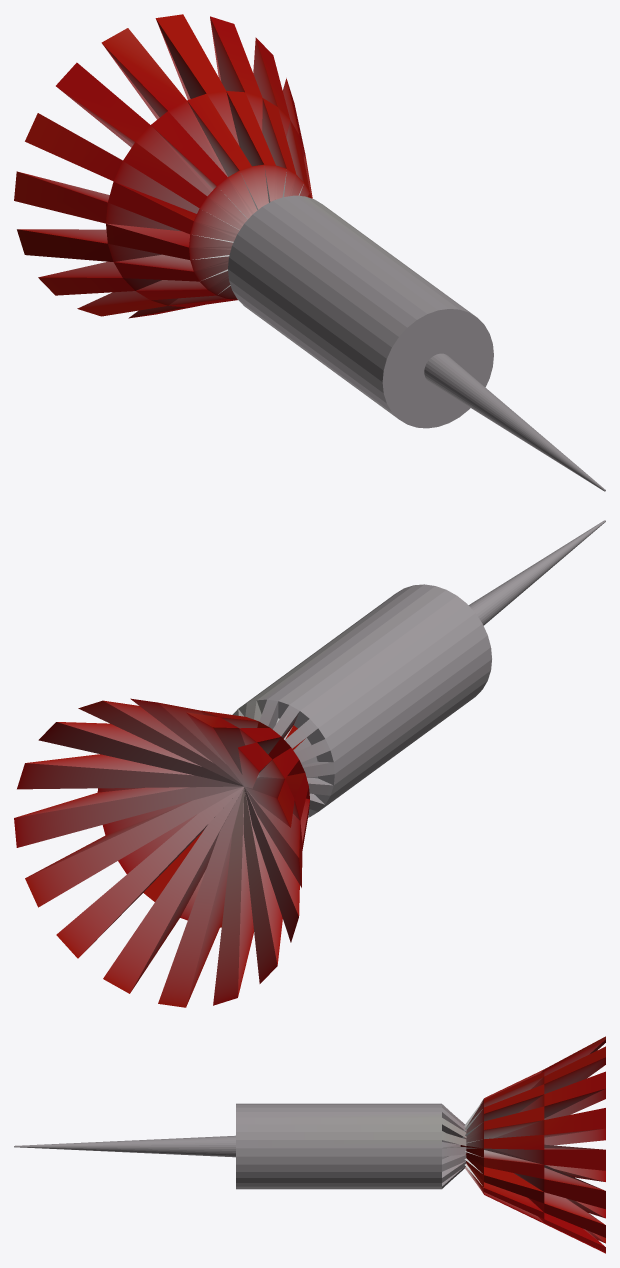
The model's file is Dart_placeholder.fbx.
3 renders of one model, top to bottom at view 1: azimuth 30°, elevation 25°; view 2: azimuth 150°, elevation 25°; view 3: azimuth 270°, elevation 25°, orthographic. The views are drawn at different scales.
Visible parts, largest first — view 1: Cylinder; view 2: Cylinder; view 3: Cylinder.
Part boxes in pixels (left/top/right/bottom): Cylinder: left=14, top=14, right=605, bottom=491; Cylinder: left=14, top=520, right=605, bottom=1007; Cylinder: left=14, top=1036, right=605, bottom=1253.
Size of the model in its own units: 209 by 209 by 568.
